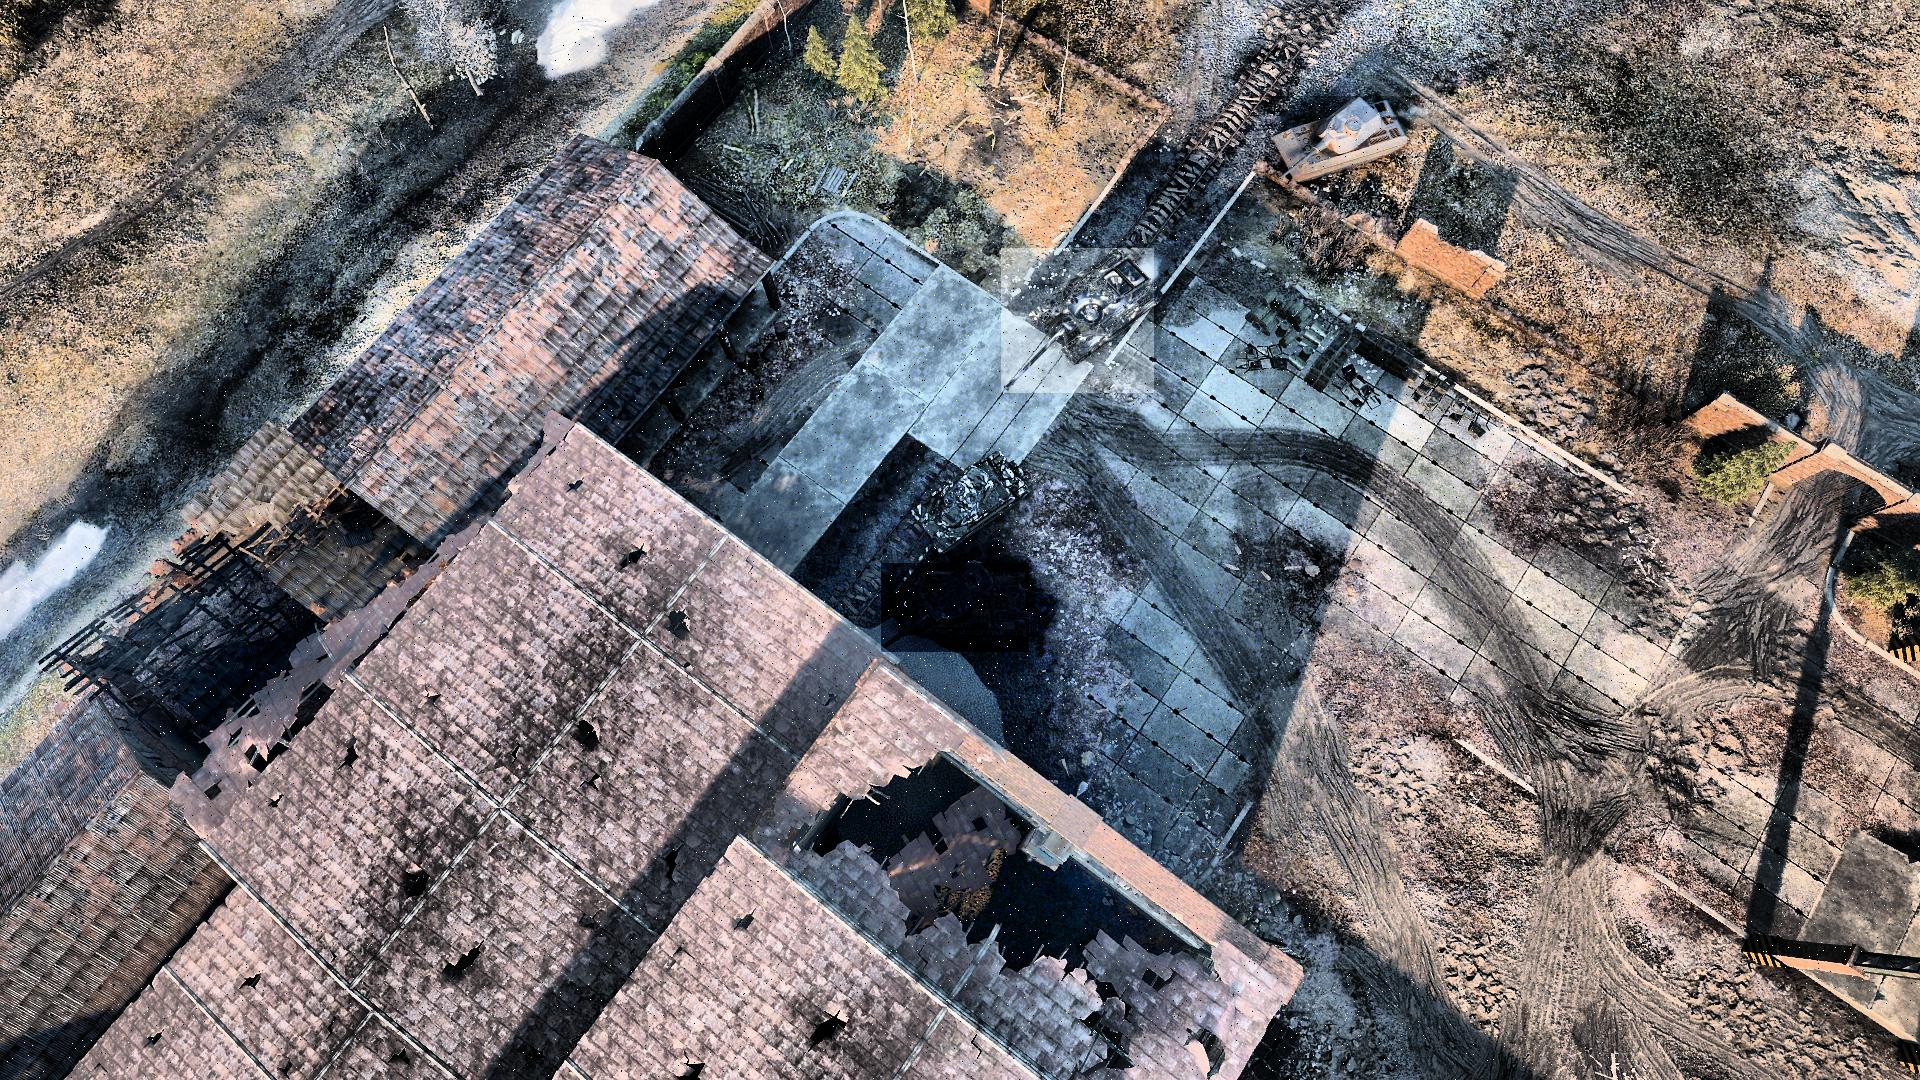military-vehicle: (1002, 248, 1155, 393), (882, 452, 1029, 600), (1265, 96, 1410, 190), (882, 563, 1030, 651)
